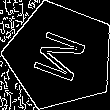M_E: (27, 25, 92, 86)
